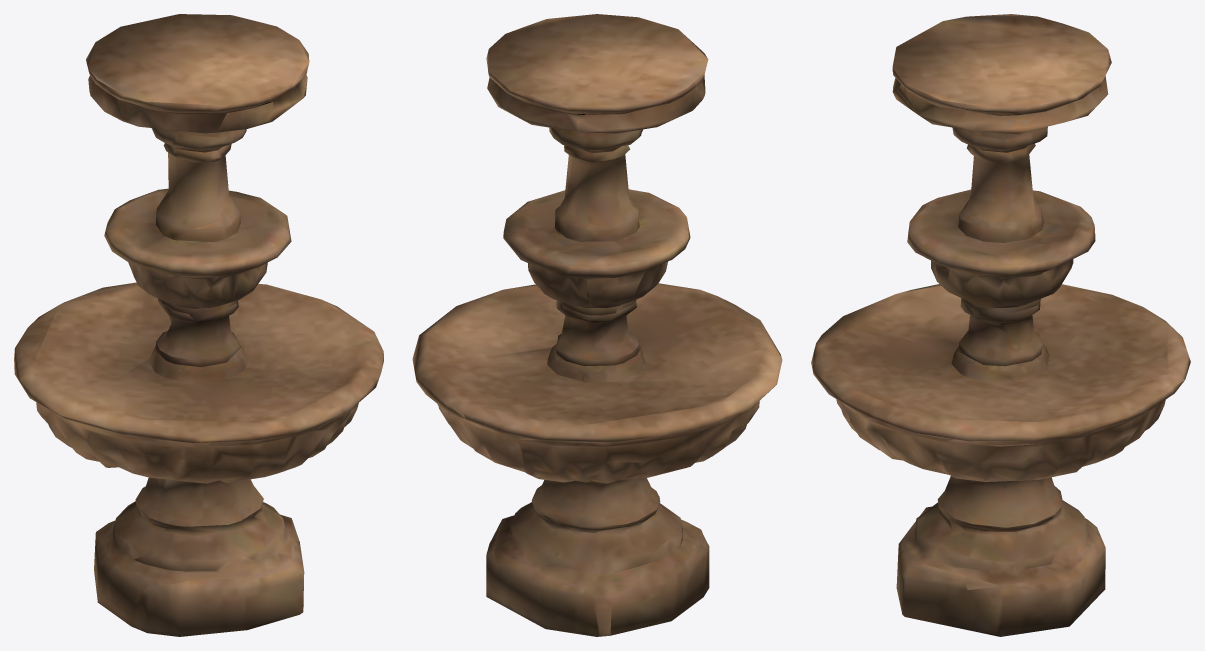
The model's file is ornate-sandstone-fountain-v001.glb.
3 renders of one model, left to right at view 1: azimuth 30°, elevation 25°; view 2: azimuth 150°, elevation 25°; view 3: azimuth 270°, elevation 25°, orthographic.
Visible parts, largest first — view 1: ornate-sandstone-fountain; view 2: ornate-sandstone-fountain; view 3: ornate-sandstone-fountain.
Boxes of the visible parts, x1,y1,x2,y2 form: ornate-sandstone-fountain: (14, 14, 383, 636); ornate-sandstone-fountain: (412, 14, 782, 636); ornate-sandstone-fountain: (811, 14, 1190, 636).
Size of the model in its own units: 0.7596 by 1.2 by 0.7823.
Materials: 1 (1 with a texture image).
